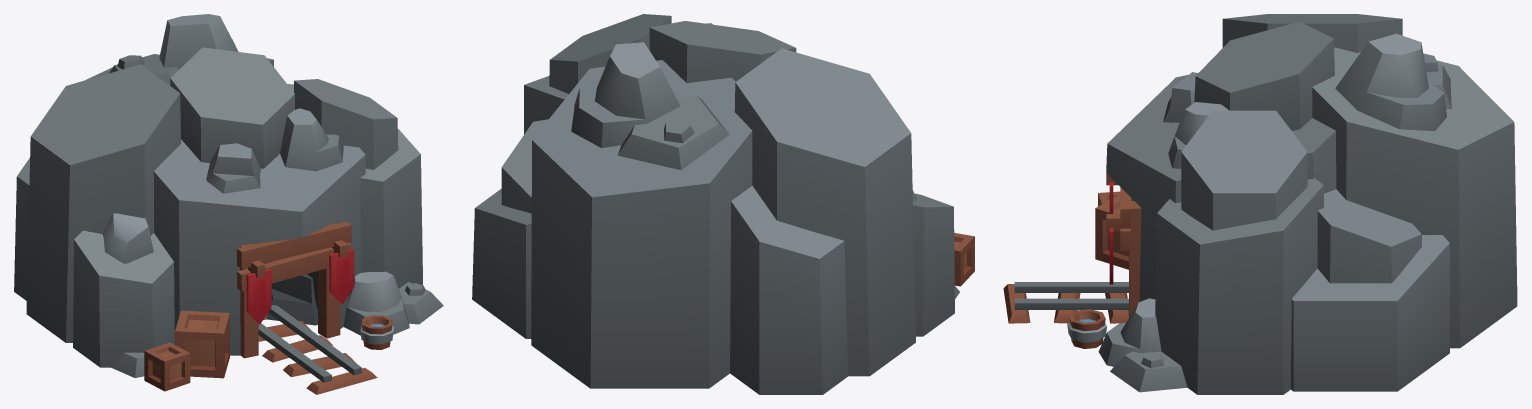
Rendered from medieval-mine.glb.
3 renders of one model, left to right at view 1: azimuth 30°, elevation 25°; view 2: azimuth 150°, elevation 25°; view 3: azimuth 270°, elevation 25°, orthographic. The views are drawn at different scales.
Parts seen in each view (by area): view 1: building_mine_red; view 2: building_mine_red; view 3: building_mine_red.
Part boxes in pixels (x1=…): building_mine_red: x1=14, y1=14, x2=443, y2=394; building_mine_red: x1=472, y1=14, x2=974, y2=394; building_mine_red: x1=1003, y1=14, x2=1517, y2=394.
Bounding box in the file's own units: 1.61 × 1.14 × 1.92.
